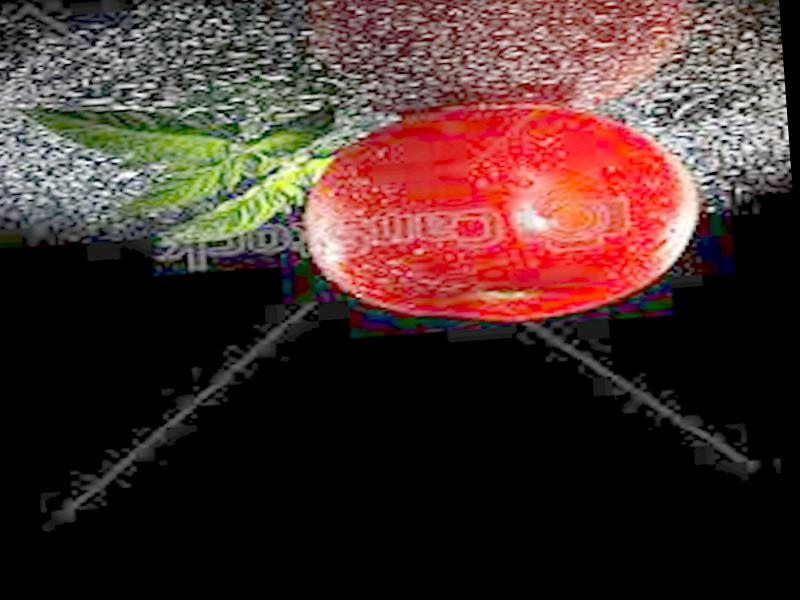Tomato: (299, 91, 703, 334)
